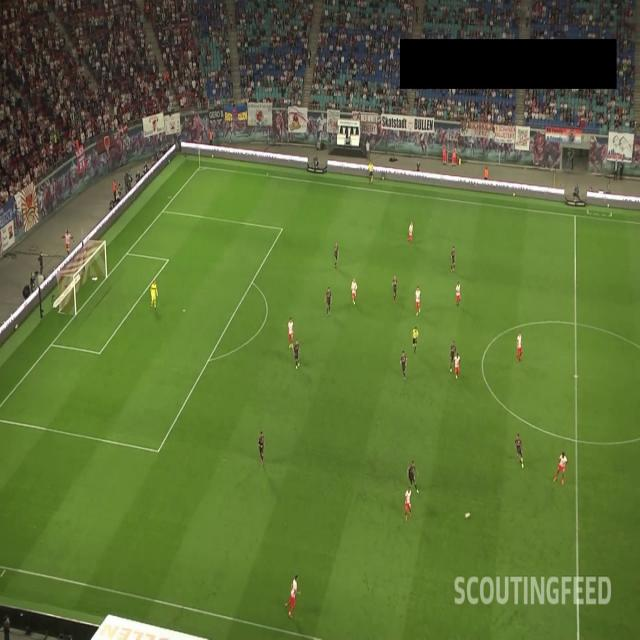ball: (464, 510, 471, 518)
player: (398, 345, 411, 379), (557, 447, 566, 490), (516, 433, 526, 467), (408, 462, 419, 492), (405, 486, 414, 520), (150, 278, 158, 314), (448, 247, 458, 274), (414, 286, 422, 318), (392, 274, 401, 302), (450, 335, 457, 371), (332, 241, 340, 271), (456, 278, 463, 311), (517, 331, 524, 364), (258, 428, 264, 463), (406, 219, 414, 245), (288, 316, 294, 348), (351, 275, 357, 304), (454, 354, 460, 380), (327, 287, 332, 312), (295, 343, 299, 366)
